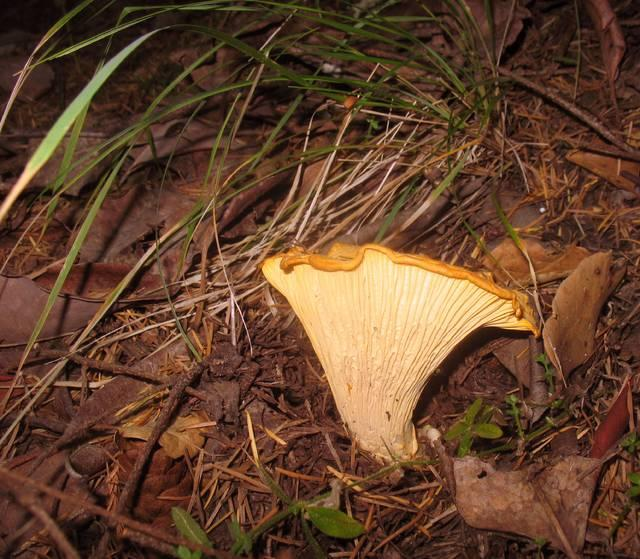edible_mushroom: (259, 240, 539, 474)
